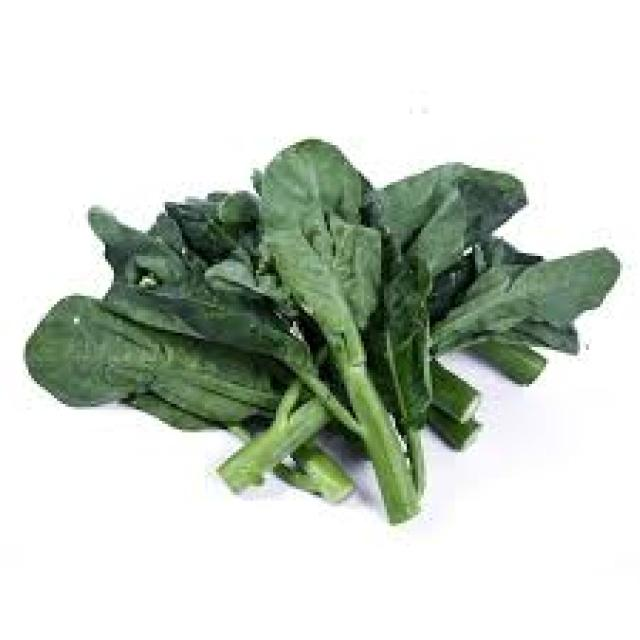collard: (23, 143, 623, 530)
